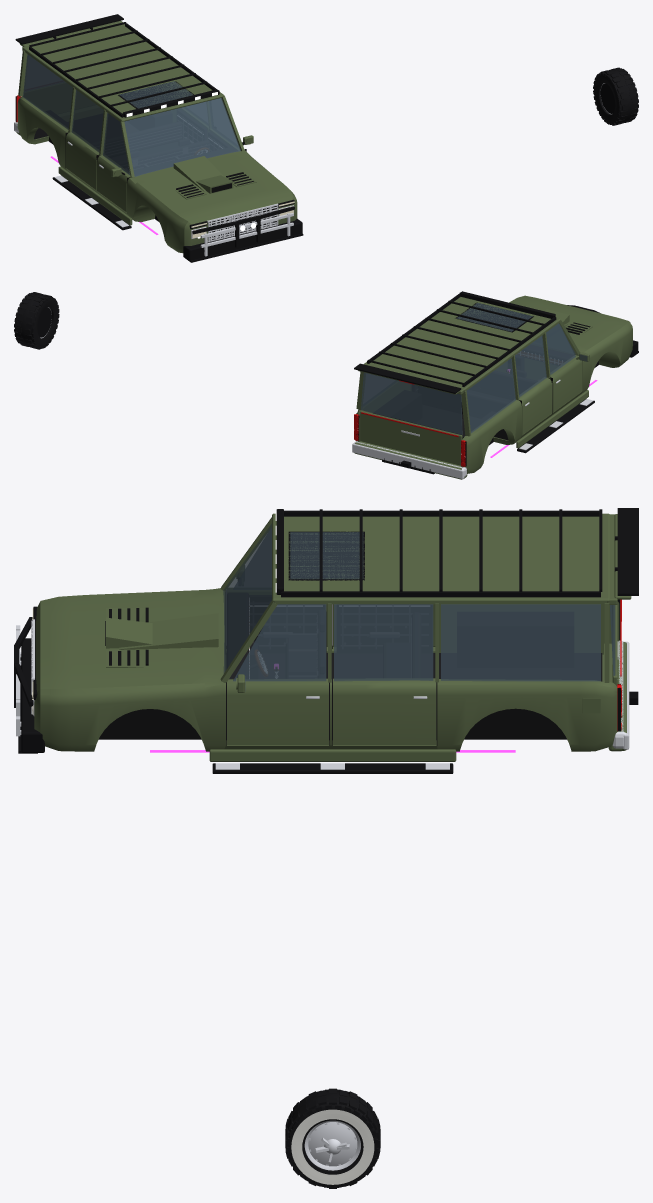
File: Dunewalker.glb
The picture shows the model from 3 angles, top to bottom: view 1: azimuth 30°, elevation 25°; view 2: azimuth 150°, elevation 25°; view 3: azimuth 270°, elevation 25°; orthographic projection. The views are drawn at different scales.
Parts seen in each view (by area): view 1: Dunewalker_PanelRoof, Dunewalker_Glass, Dunewalker_PanelHood, Dunewalker_PanelSideR, Dunewalker_OptTopRackDark, Dunewalker_RoofGlass, Dunewalker_OptFrontBumperBullDark, Dunewalker_Body, Dunewalker_Carpet, Dunewalker_RoofBody, DunewalkerWheel_TireOffroadRubber, Dunewalker_OptSeatsBucketsSeat (+22 smaller); view 2: Dunewalker_PanelRoof, Dunewalker_RoofGlass__Lid, Dunewalker_PanelSideR, Dunewalker_Lid, Dunewalker_OptTopRackDark, Dunewalker_RoofGlass, Dunewalker_Carpet, Dunewalker_Body, Dunewalker_PanelHood, DunewalkerWheel_TireOffroadRubber, Dunewalker_OptSeatsBucketsSeat, Dunewalker_RoofBody (+18 smaller); view 3: Dunewalker_PanelRoof, Dunewalker_PanelSideL, Dunewalker_PanelHood, Dunewalker_RoofGlass, Dunewalker_Carpet, Dunewalker_RoofGlass__WinDoorRL, Dunewalker_PanelDoorRL, Dunewalker_OptTopRackDark, Dunewalker_PanelDoorL, Dunewalker_RoofGlass__WinDoorL, Dunewalker_Body, Dunewalker_Under (+21 smaller).
Boxes of the visible parts, x1,y1,x2,y2 form: Dunewalker_PanelRoof: (24,24,224,121); Dunewalker_Glass: (124,98,240,176); Dunewalker_PanelHood: (130,150,294,224); Dunewalker_PanelSideR: (17,98,185,252); Dunewalker_OptTopRackDark: (29,22,219,117); Dunewalker_RoofGlass: (23,54,72,129); Dunewalker_OptFrontBumperBullDark: (183,206,302,261); Dunewalker_Body: (20,96,297,253); Dunewalker_Carpet: (34,110,171,142); Dunewalker_RoofBody: (18,50,244,177); DunewalkerWheel_TireOffroadRubber: (593,67,638,125); Dunewalker_OptSeatsBucketsSeat: (91,122,192,169); Dunewalker_PanelRoof: (364,297,560,390); Dunewalker_RoofGlass__Lid: (361,372,462,434); Dunewalker_PanelSideR: (463,323,632,473); Dunewalker_Lid: (360,389,463,465); Dunewalker_OptTopRackDark: (367,292,556,386); Dunewalker_RoofGlass: (363,358,515,433); Dunewalker_Carpet: (373,390,511,440); Dunewalker_Body: (358,351,620,471); Dunewalker_PanelHood: (509,295,630,352); DunewalkerWheel_TireOffroadRubber: (14,292,59,349); Dunewalker_OptSeatsBucketsSeat: (418,370,526,417); Dunewalker_RoofBody: (356,320,579,436); Dunewalker_PanelRoof: (272,513,609,602); Dunewalker_PanelSideL: (40,683,618,751); Dunewalker_PanelHood: (35,588,223,694); Dunewalker_RoofGlass: (441,604,600,681); Dunewalker_Carpet: (226,612,602,739); Dunewalker_RoofGlass__WinDoorRL: (334,604,433,681); Dunewalker_PanelDoorRL: (333,678,436,745); Dunewalker_OptTopRackDark: (279,509,602,597); Dunewalker_PanelDoorL: (227,678,328,745); Dunewalker_RoofGlass__WinDoorL: (233,604,326,681); Dunewalker_Body: (34,591,619,745); Dunewalker_Under: (99,708,566,739).
Size of the model in its own units: 35.47 by 8.96 by 20.52.
